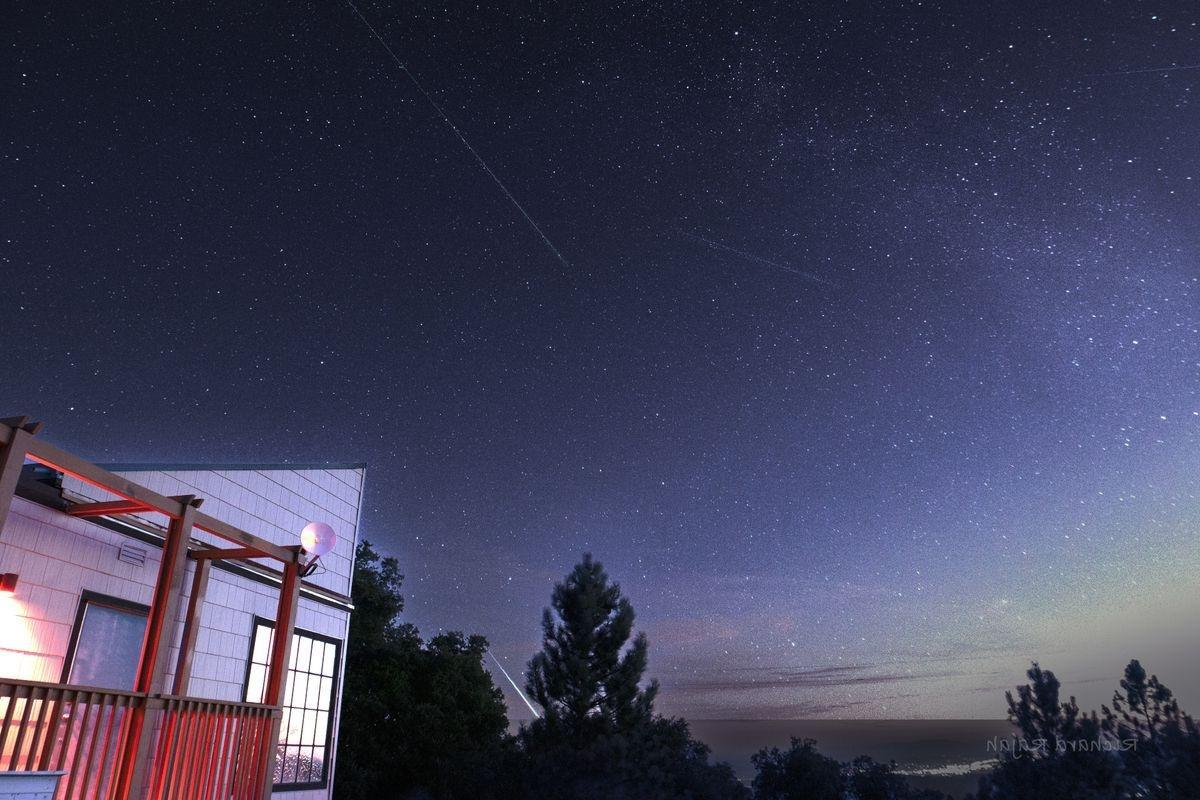meteorite: (416, 58, 607, 281), (488, 647, 538, 724)
